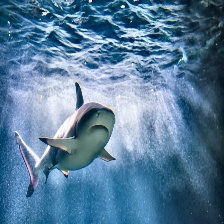shark: (16, 81, 116, 196)
